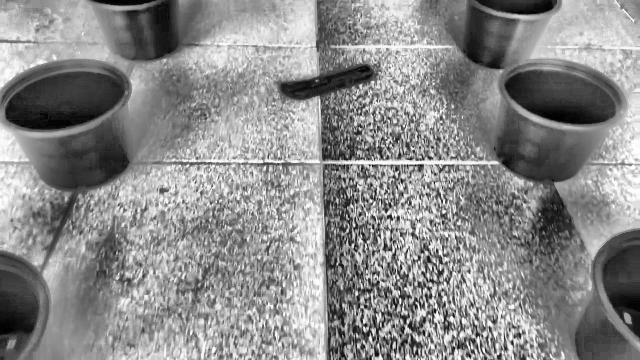pot: (0, 60, 135, 192), (492, 58, 630, 184)
